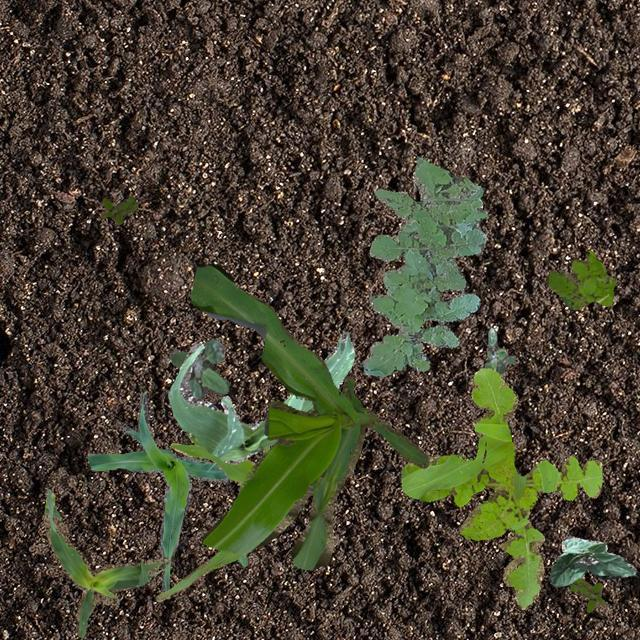crop: (188, 262, 428, 570), (86, 392, 232, 592), (166, 331, 354, 464), (156, 432, 268, 600), (43, 488, 168, 636), (548, 534, 636, 586)
weed: (400, 368, 602, 608), (361, 157, 486, 376), (544, 250, 614, 308), (168, 336, 228, 398), (484, 327, 514, 372), (570, 578, 604, 612), (100, 194, 136, 223), (236, 552, 246, 566)
